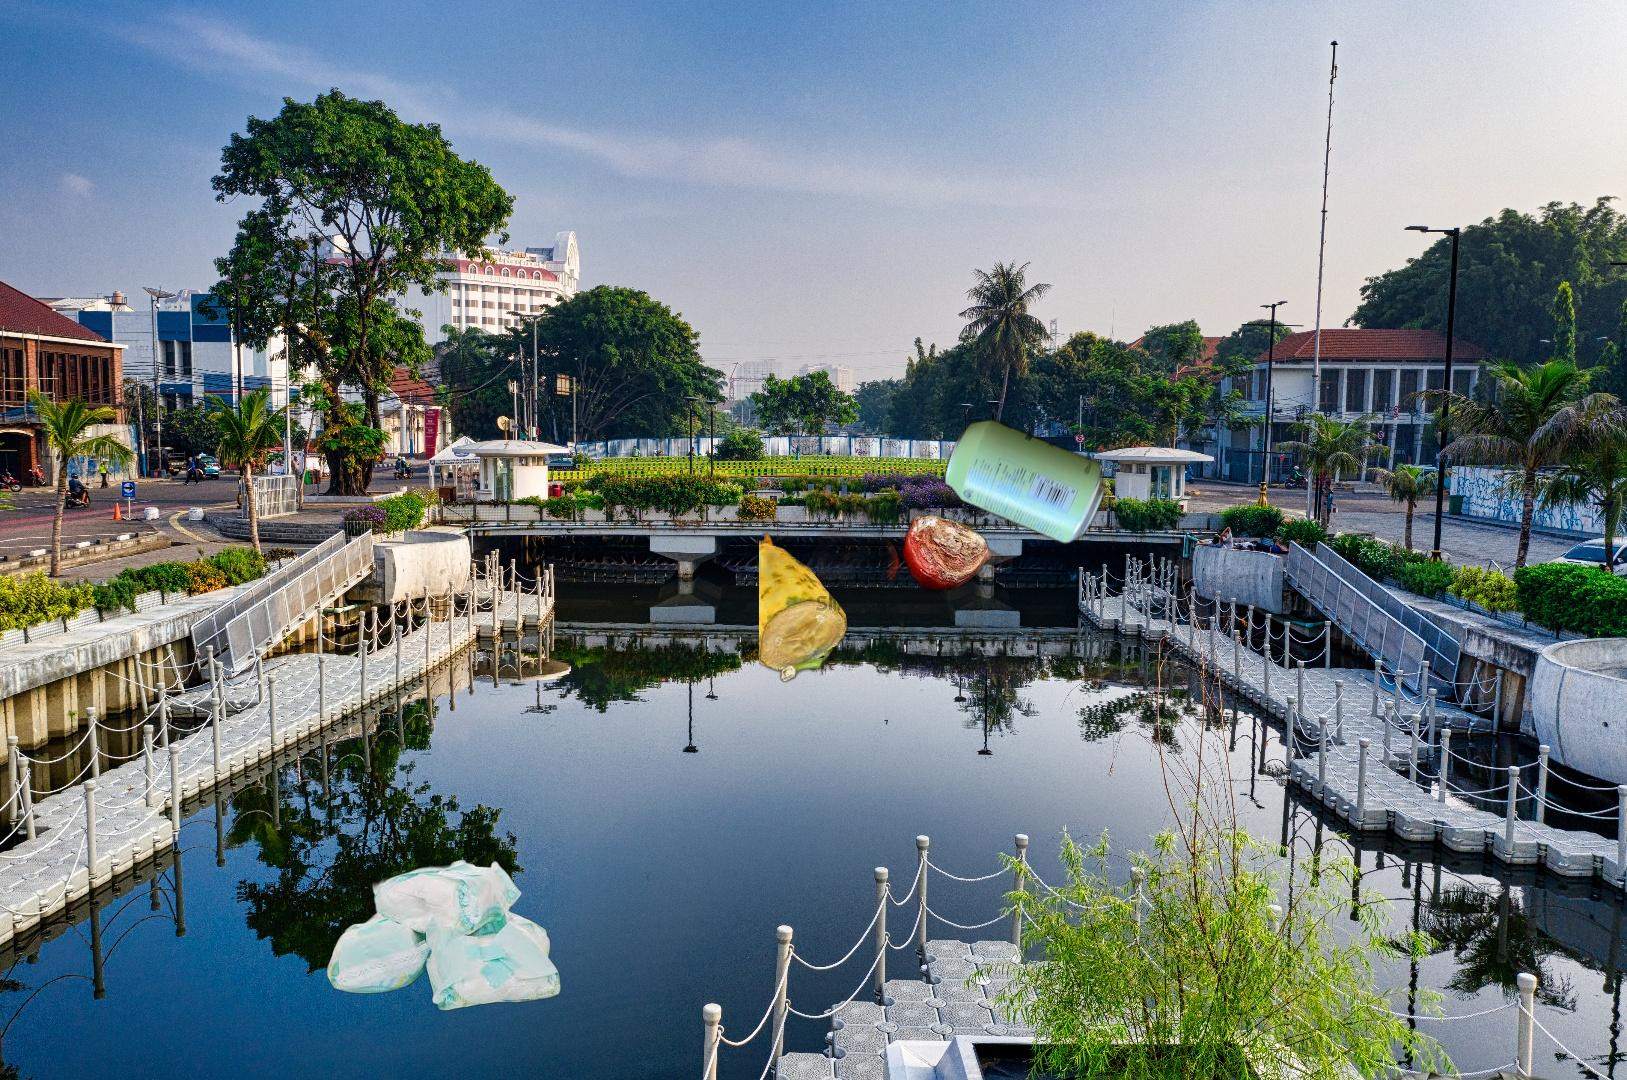biological: (759, 505, 1013, 690)
clothes: (1271, 1067, 1627, 1080)
metal-cans: (940, 414, 1109, 550)
trash: (324, 856, 564, 1014)
